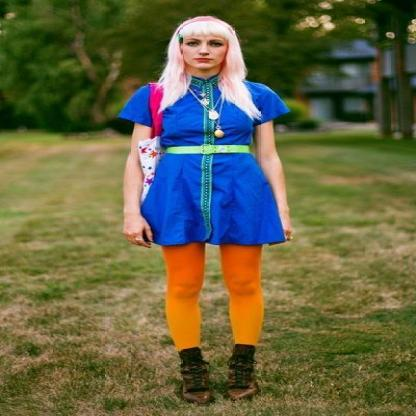bag: (126, 84, 162, 244)
dress: (119, 76, 290, 245)
shoe: (166, 344, 266, 406)
